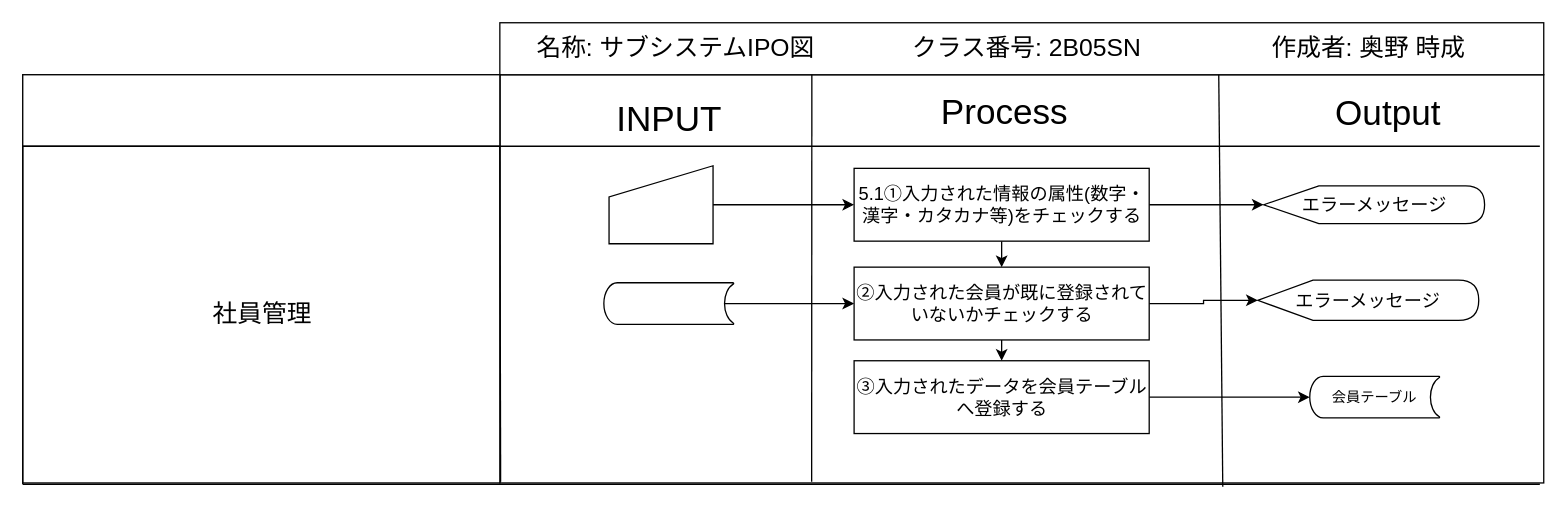
Image size: 1567x514. Some labels were removed from this diagram. The shapes that lost their labels are listed below. From the top down, each one's centre as x and y in pixels, then its label:
pixel 260 109: 各サブシステムの名称
pixel 660 204: 新規社員情報
pixel 668 302: 社員テーブル
